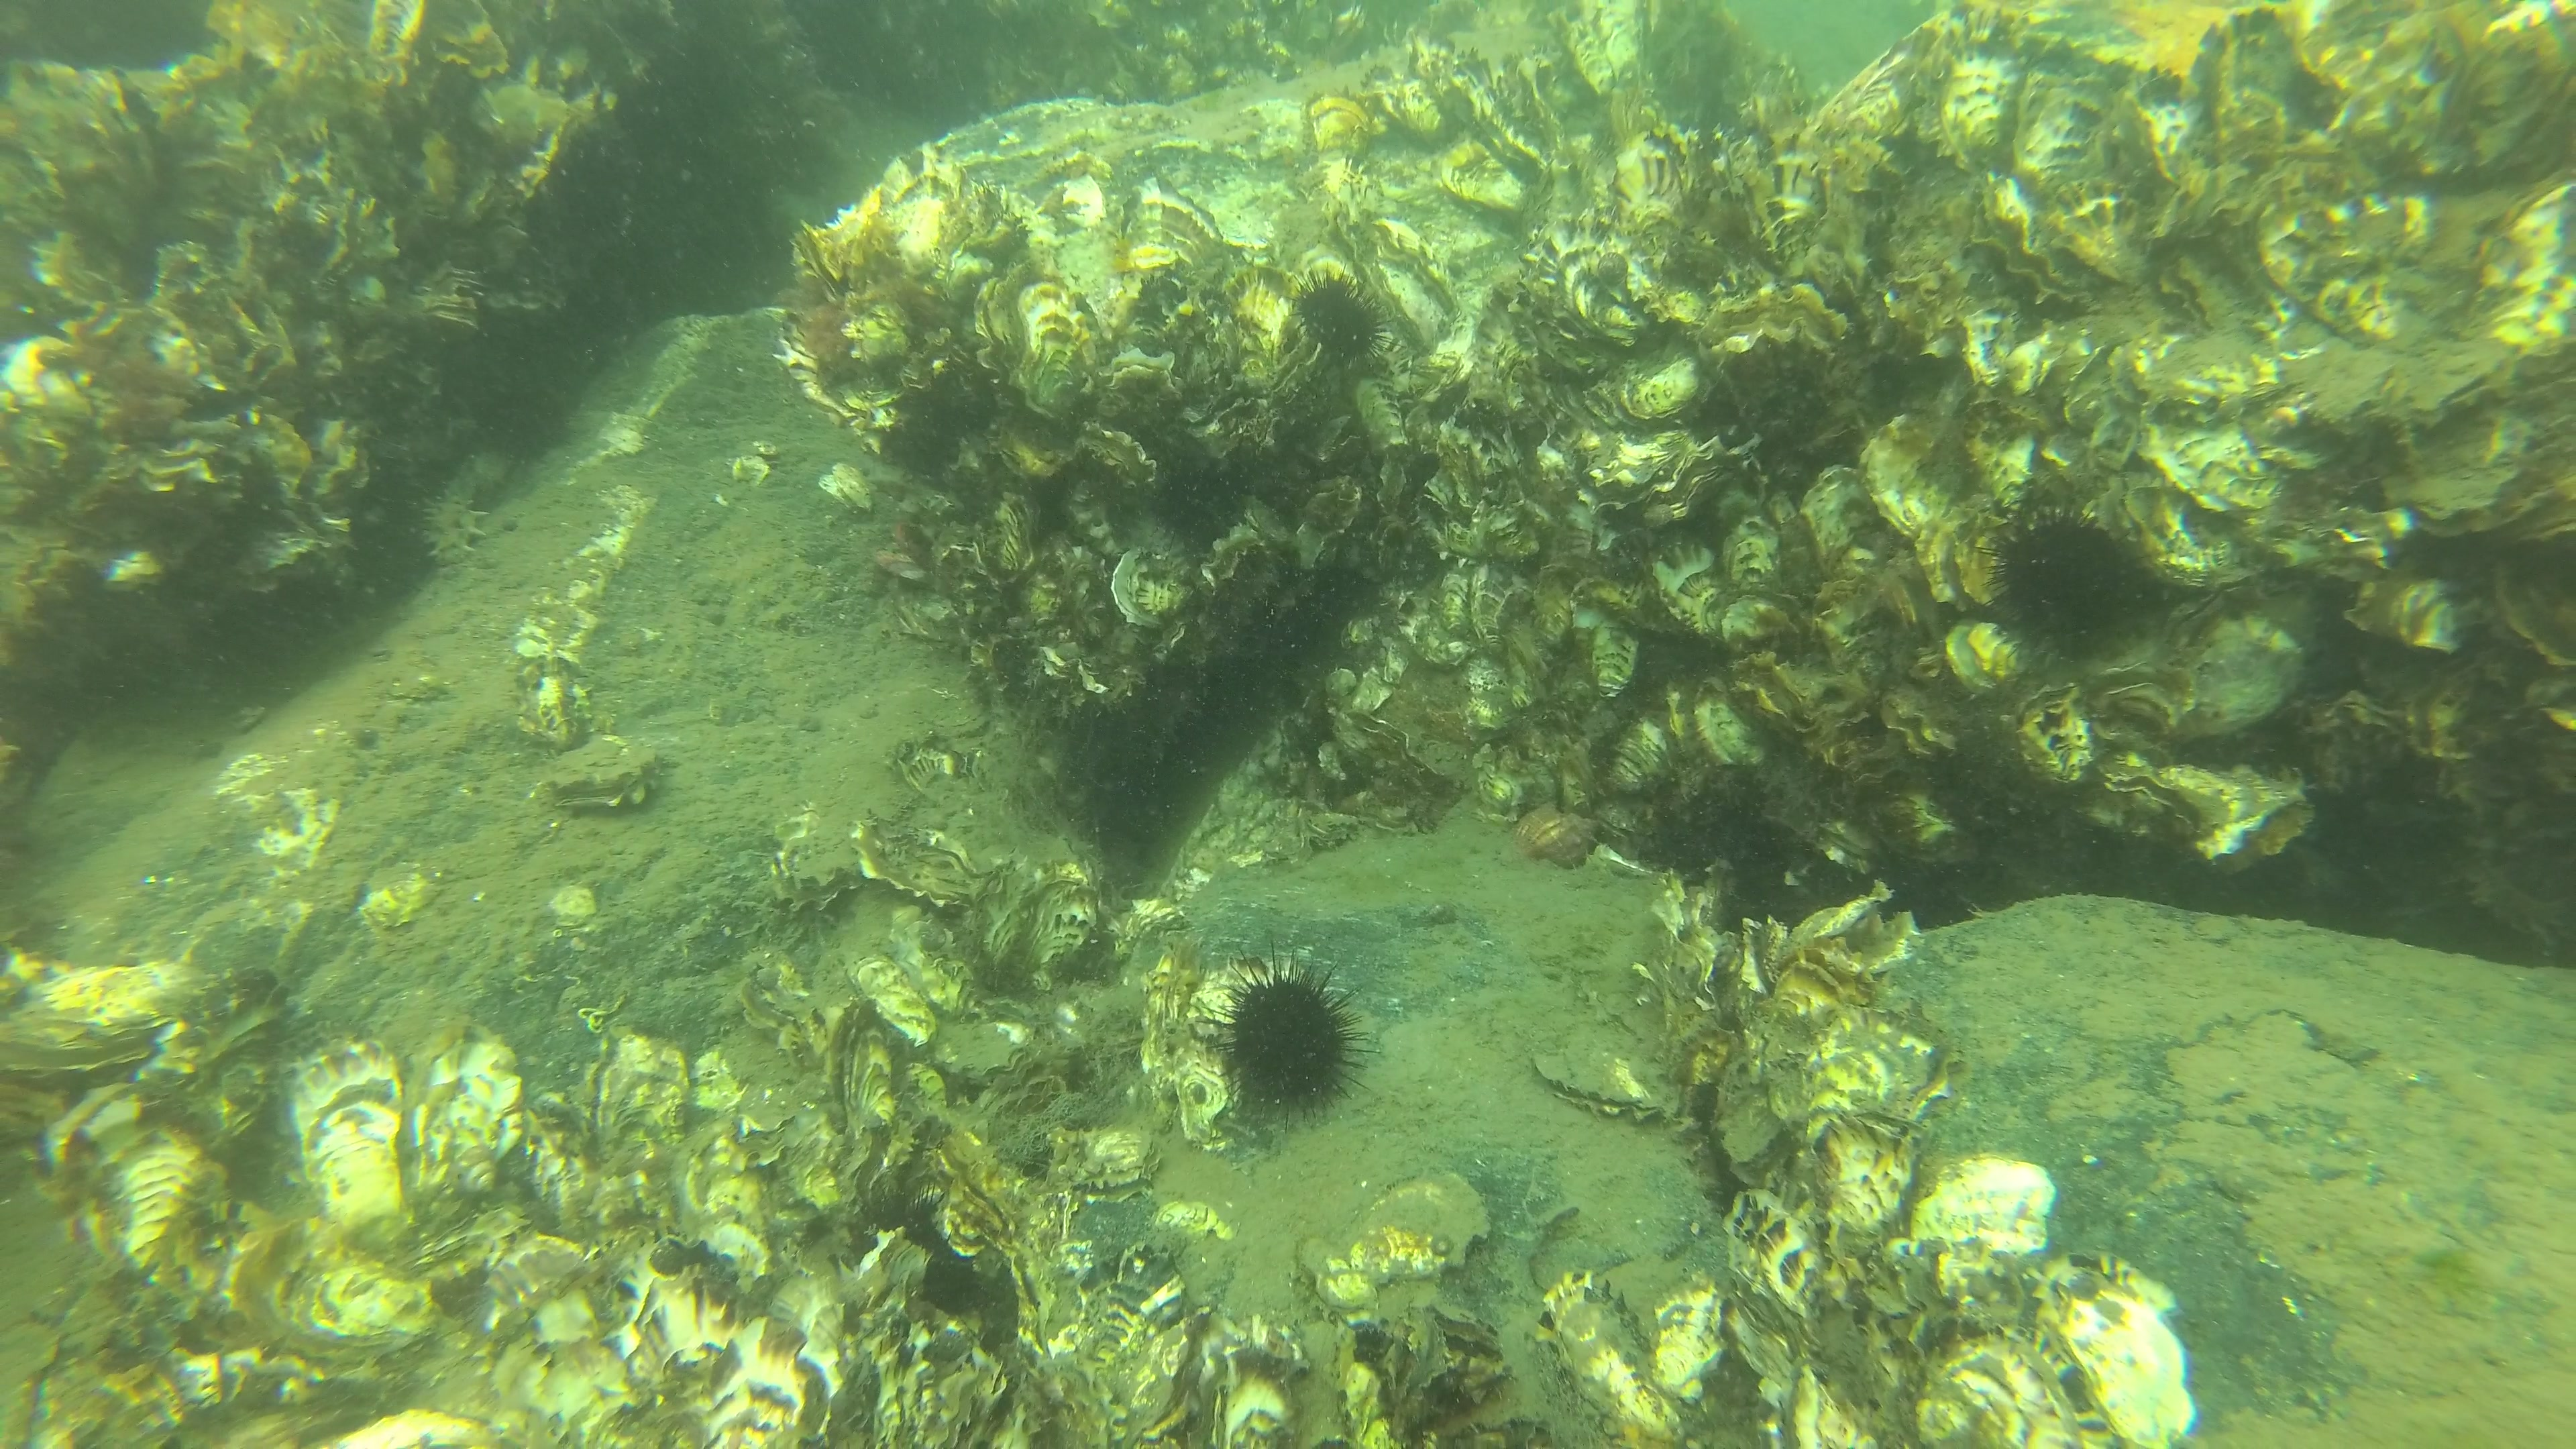echinus: (1201, 945, 1373, 1120), (1987, 497, 2160, 667), (1288, 265, 1399, 368)
